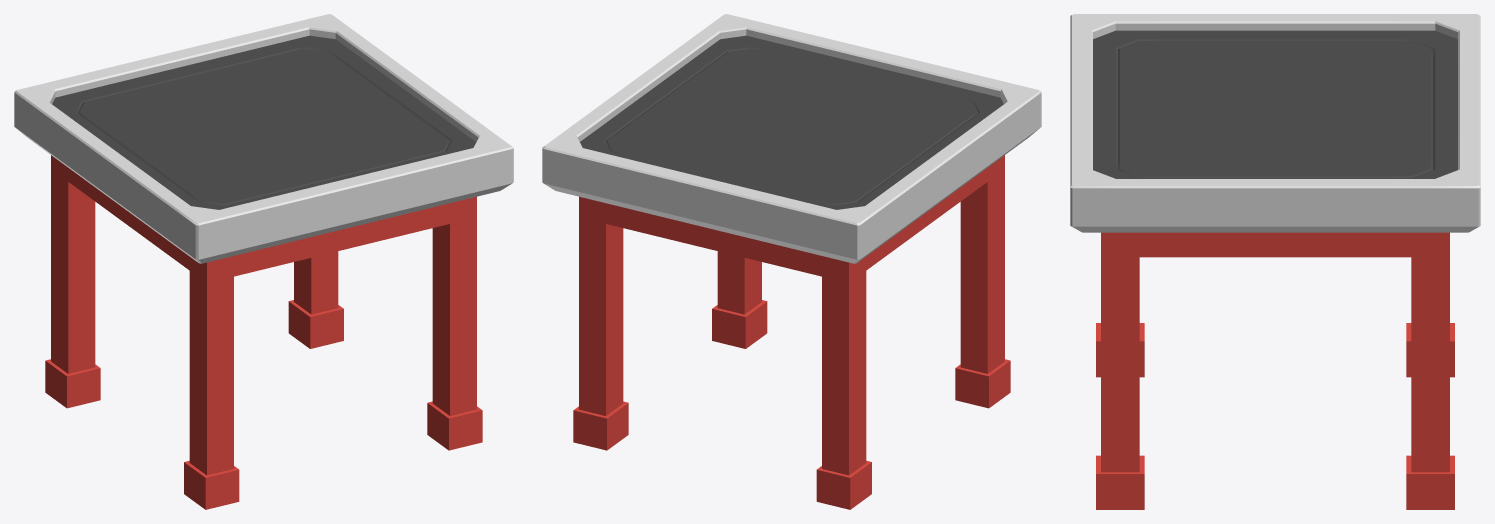
Rendered from Table.fbx.
The picture shows the model from 3 angles, left to right: view 1: azimuth 30°, elevation 25°; view 2: azimuth 150°, elevation 25°; view 3: azimuth 270°, elevation 25°; orthographic projection. The views are drawn at different scales.
Parts seen in each view (by area): view 1: Table; view 2: Table; view 3: Table.
Boxes of the visible parts, x1,y1,x2,y2 form: Table: [14, 14, 513, 509]; Table: [542, 14, 1041, 509]; Table: [1070, 14, 1480, 509].
Bounding box in the file's own units: 50 × 44.92 × 50.
